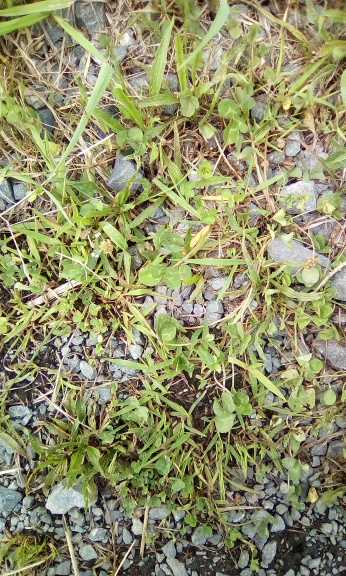4leaf: (138, 263, 183, 291)
